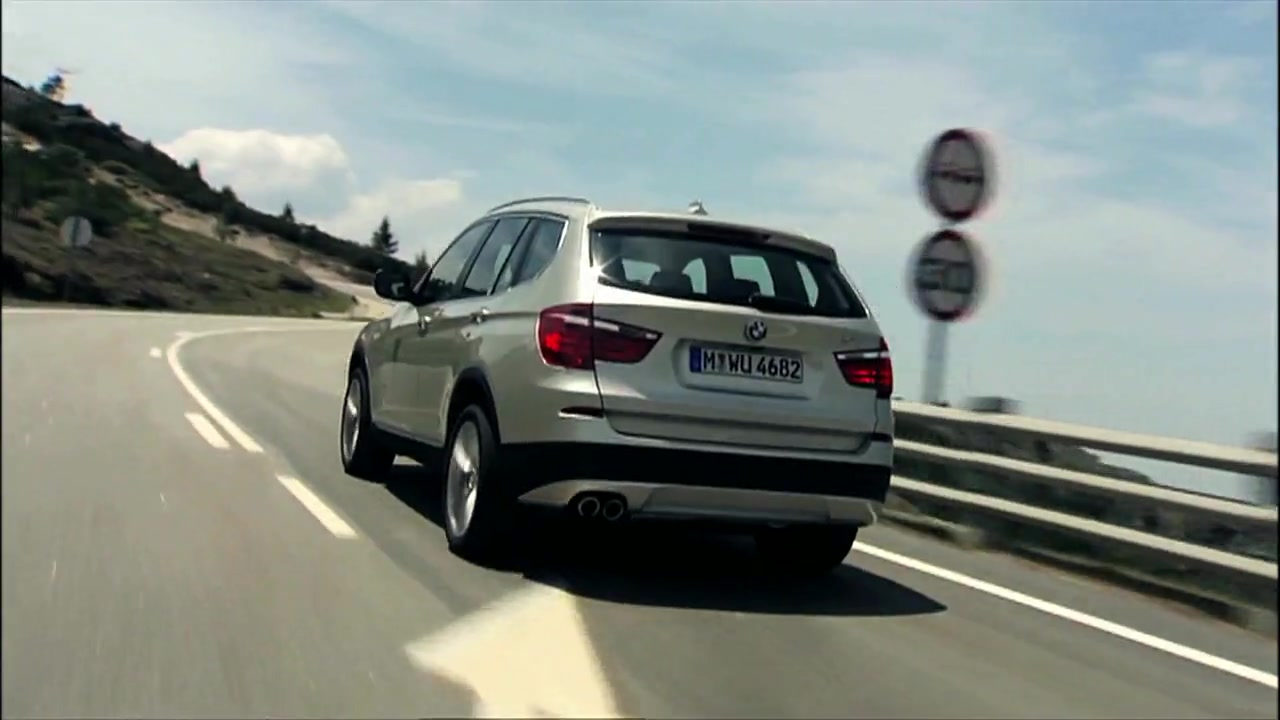car: (339, 195, 896, 569)
